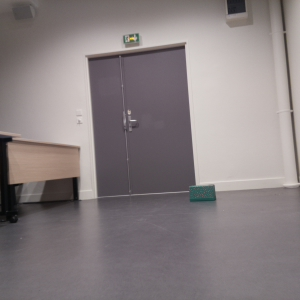small: (189, 184, 217, 202)
